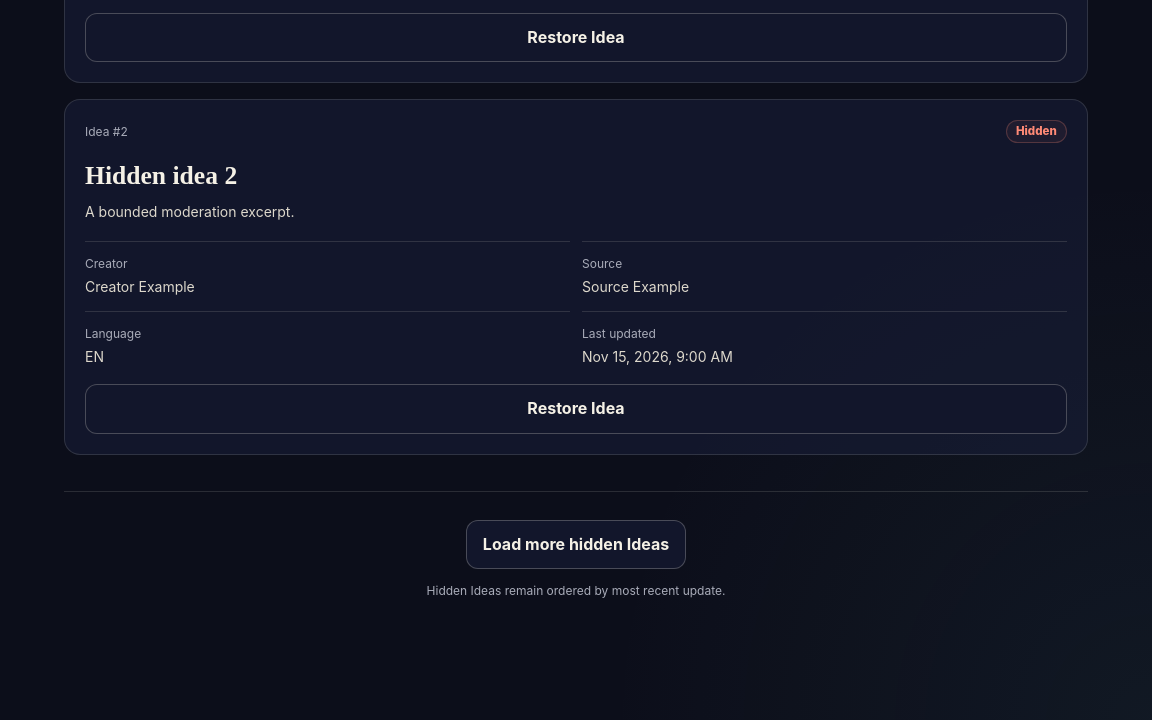
HiddenIdeasPage › loads the next cursor page and de-duplicates Ideas
This screenshot has width=1152, height=720.
(page scrolled)
Click the button "Load more hidden Ideas" at (576, 544), box top-left (466, 520), bottom-right (686, 569)
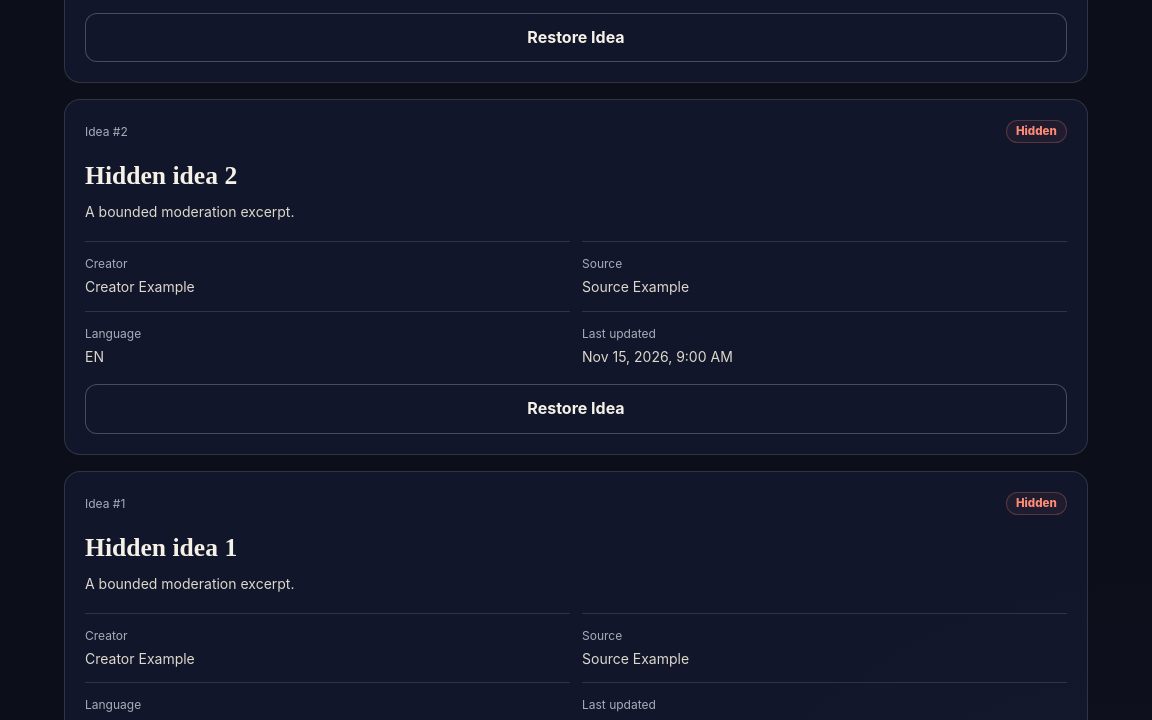
Expected: the number of headings "Hidden idea 2" is 1, top-left (85, 161), bottom-right (237, 190)
Now the heading "Hidden idea 1" is shown, box top-left (85, 533), bottom-right (237, 562)
